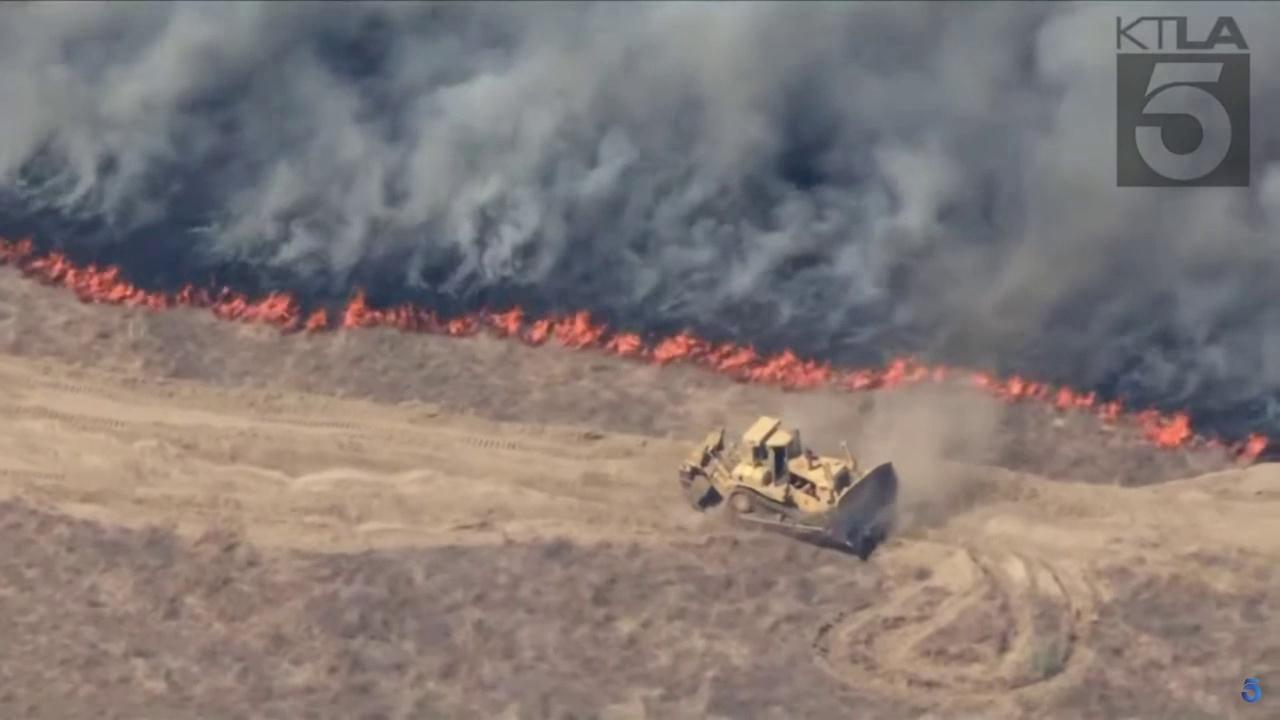fire: (339, 285, 1123, 419), (0, 235, 327, 331), (1135, 405, 1194, 449), (1237, 432, 1270, 467)
smoke: (0, 0, 1280, 456)
